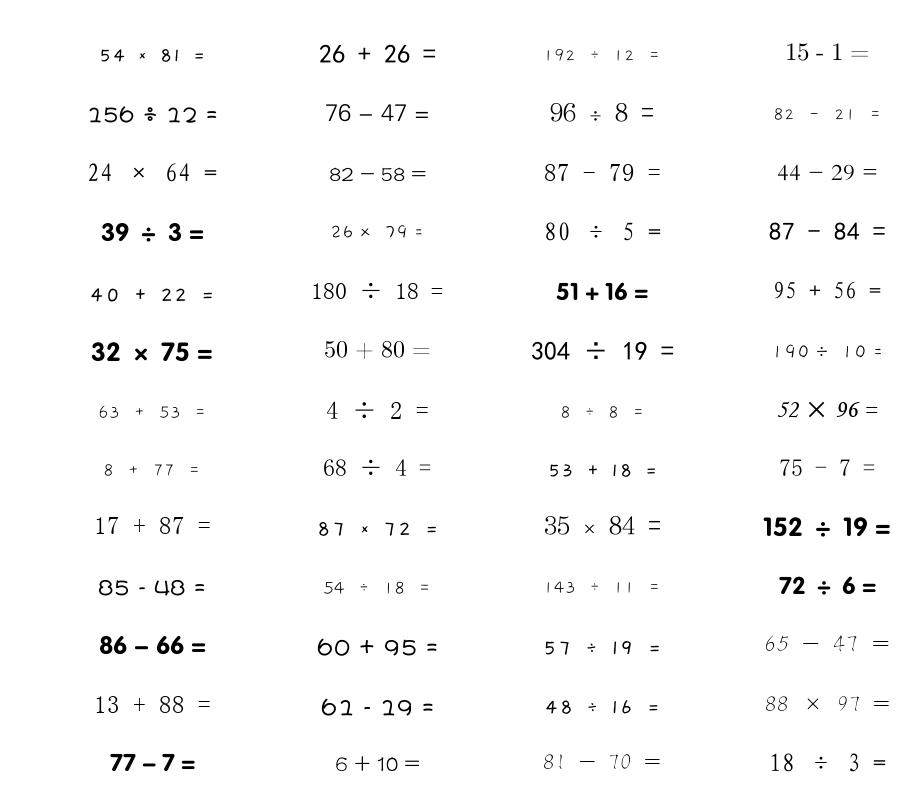MQ: (531, 341, 674, 361), (763, 517, 891, 537), (87, 163, 217, 182), (91, 342, 213, 362), (544, 515, 661, 535), (311, 282, 443, 299), (87, 106, 218, 123), (319, 44, 436, 63), (544, 222, 661, 241), (769, 753, 886, 772), (317, 638, 438, 656), (764, 635, 890, 652), (99, 635, 206, 655), (769, 222, 886, 240), (550, 102, 654, 122), (101, 222, 204, 242), (321, 698, 434, 716), (324, 340, 431, 359), (765, 696, 890, 712), (325, 103, 430, 122), (544, 164, 661, 181), (94, 517, 211, 534), (94, 696, 211, 713), (773, 281, 881, 299), (543, 754, 661, 770), (326, 401, 429, 419), (316, 521, 439, 536), (779, 576, 876, 595), (323, 459, 431, 476), (98, 579, 206, 596), (89, 288, 215, 302), (556, 282, 648, 301), (776, 401, 878, 418), (777, 164, 878, 181), (771, 344, 883, 359), (542, 641, 662, 655), (543, 48, 661, 62), (779, 459, 875, 476), (544, 700, 660, 714), (110, 753, 195, 772), (543, 581, 661, 594), (98, 405, 207, 419), (785, 43, 869, 61), (323, 581, 431, 595), (335, 755, 420, 772), (547, 464, 658, 477), (773, 108, 882, 121), (98, 49, 206, 62), (329, 167, 426, 181), (330, 225, 424, 239), (103, 464, 201, 477), (560, 406, 645, 419)
